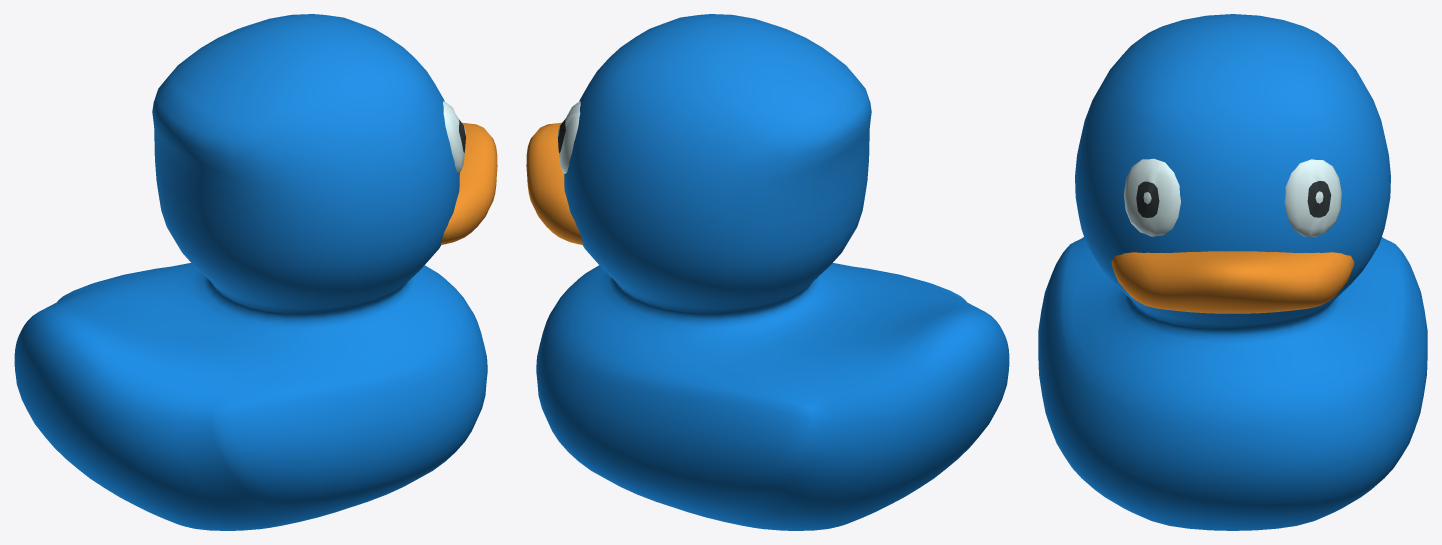
File: Rubber Ducky Blue.fbx
The picture shows the model from 3 angles, left to right: view 1: azimuth 30°, elevation 25°; view 2: azimuth 150°, elevation 25°; view 3: azimuth 270°, elevation 25°; orthographic projection. The views are drawn at different scales.
Visible parts, largest first — view 1: Rubber_Duck; view 2: Rubber_Duck; view 3: Rubber_Duck.
Boxes of the visible parts, <box> form: Rubber_Duck: <box>14,14,497,530</box>; Rubber_Duck: <box>526,14,1009,530</box>; Rubber_Duck: <box>1038,14,1427,530</box>.
Size of the model in its own units: 8.53 by 8.27 by 6.1.
Materials: 1 (1 with a texture image).
